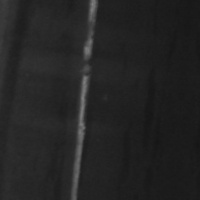scratches: (67, 4, 100, 193)
